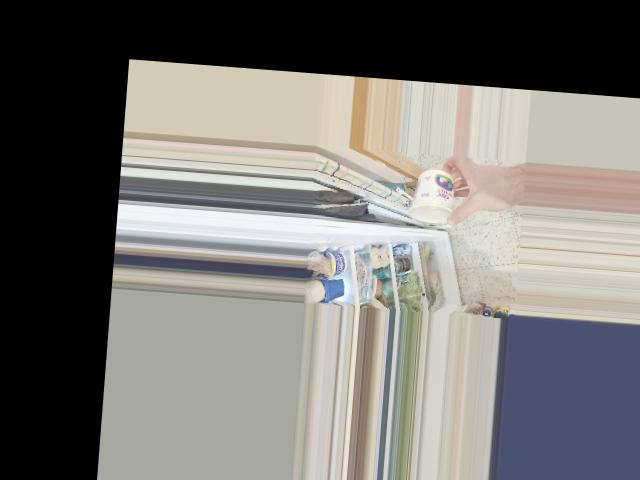cotage: (404, 166, 464, 229)
